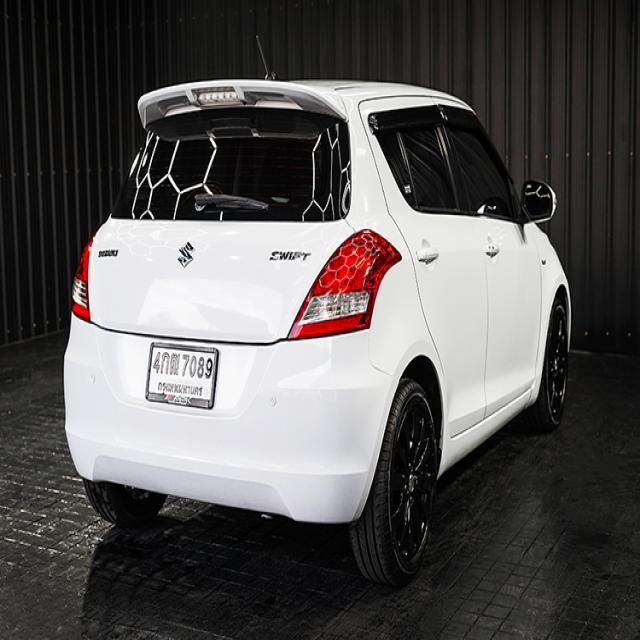license_plate: (143, 338, 222, 416)
